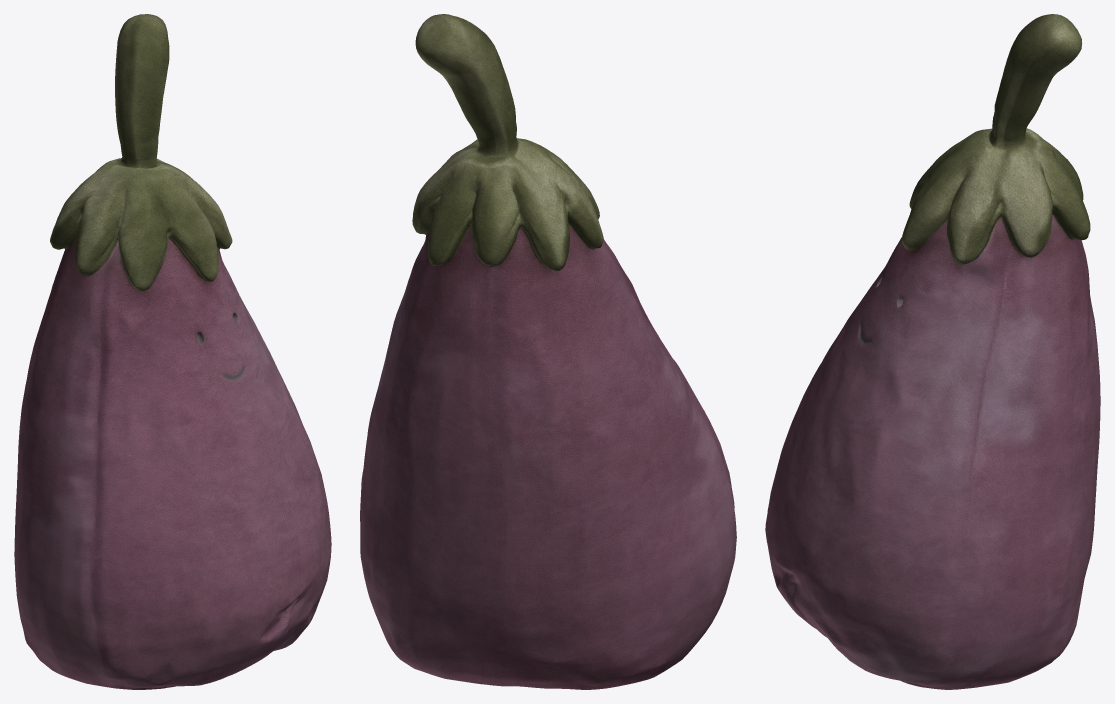
Rendered from aubergine_giant.glb.
The picture shows the model from 3 angles, left to right: view 1: azimuth 30°, elevation 25°; view 2: azimuth 150°, elevation 25°; view 3: azimuth 270°, elevation 25°; orthographic projection. The views are drawn at different scales.
Size of the model in its own units: 0.4612 by 0.9224 by 0.4336.
1 material, 1 textured.
